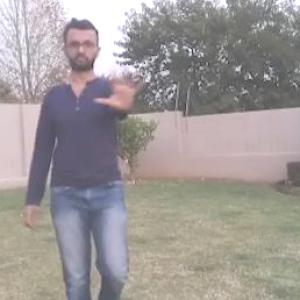follow_hand: (92, 60, 151, 116)
